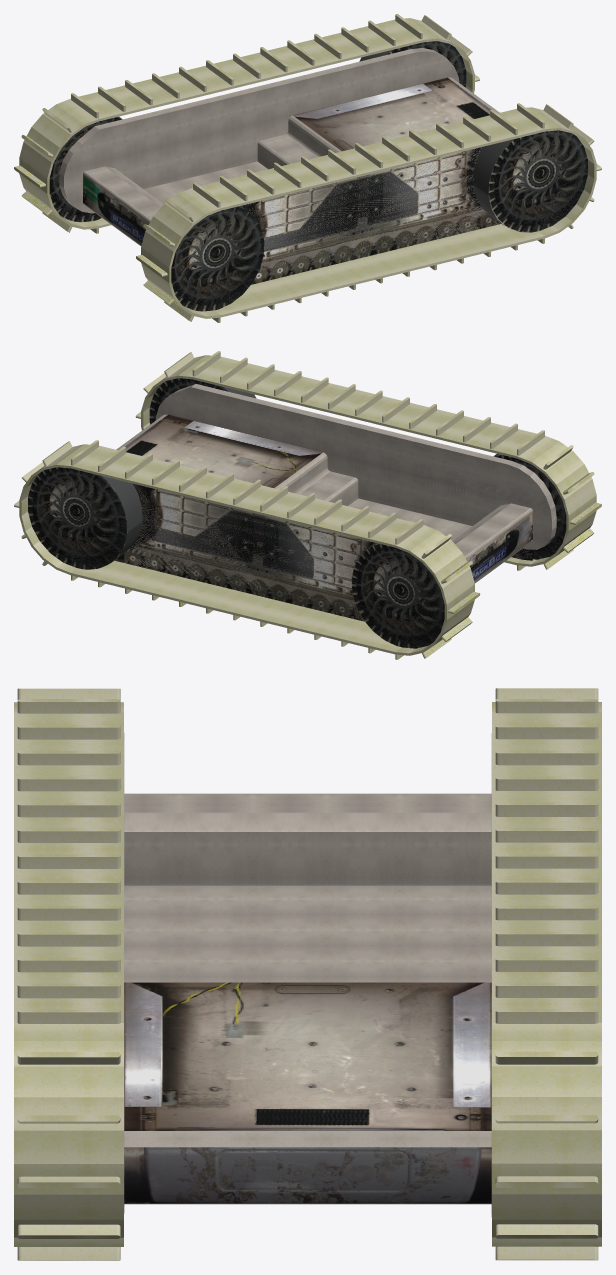
Rendered from packbot_simple.dae.
3 renders of one model, top to bottom at view 1: azimuth 30°, elevation 25°; view 2: azimuth 150°, elevation 25°; view 3: azimuth 270°, elevation 25°, orthographic. The views are drawn at different scales.
Parts seen in each view (by area): view 1: CHASSIS_SIDE (×2), TREAD (×4), HUB (×5), CHASSIS (×4); view 2: CHASSIS_SIDE (×2), TREAD (×4), HUB (×5), CHASSIS (×4); view 3: CHASSIS (×5), TREAD (×2), TREAD_NIB (×38).
Part boxes in pixels (left/top/right/bottom): CHASSIS_SIDE (×2): left=59, top=48, right=500, bottom=284; TREAD (×4): left=19, top=18, right=596, bottom=318; HUB (×5): left=49, top=41, right=587, bottom=311; CHASSIS (×4): left=83, top=77, right=491, bottom=245; CHASSIS_SIDE (×2): left=115, top=384, right=556, bottom=621; TREAD (×4): left=19, top=355, right=596, bottom=655; HUB (×5): left=28, top=378, right=566, bottom=648; CHASSIS (×4): left=125, top=414, right=532, bottom=582; CHASSIS (×5): left=124, top=793, right=491, bottom=1203; TREAD (×2): left=14, top=702, right=601, bottom=1246; TREAD_NIB (×38): left=17, top=688, right=598, bottom=1260.
Size of the model in its own units: 27.14 by 16.01 by 7.15.
Materials: 14 (11 with a texture image).
